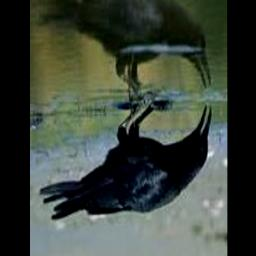Crow: (39, 100, 212, 222)
